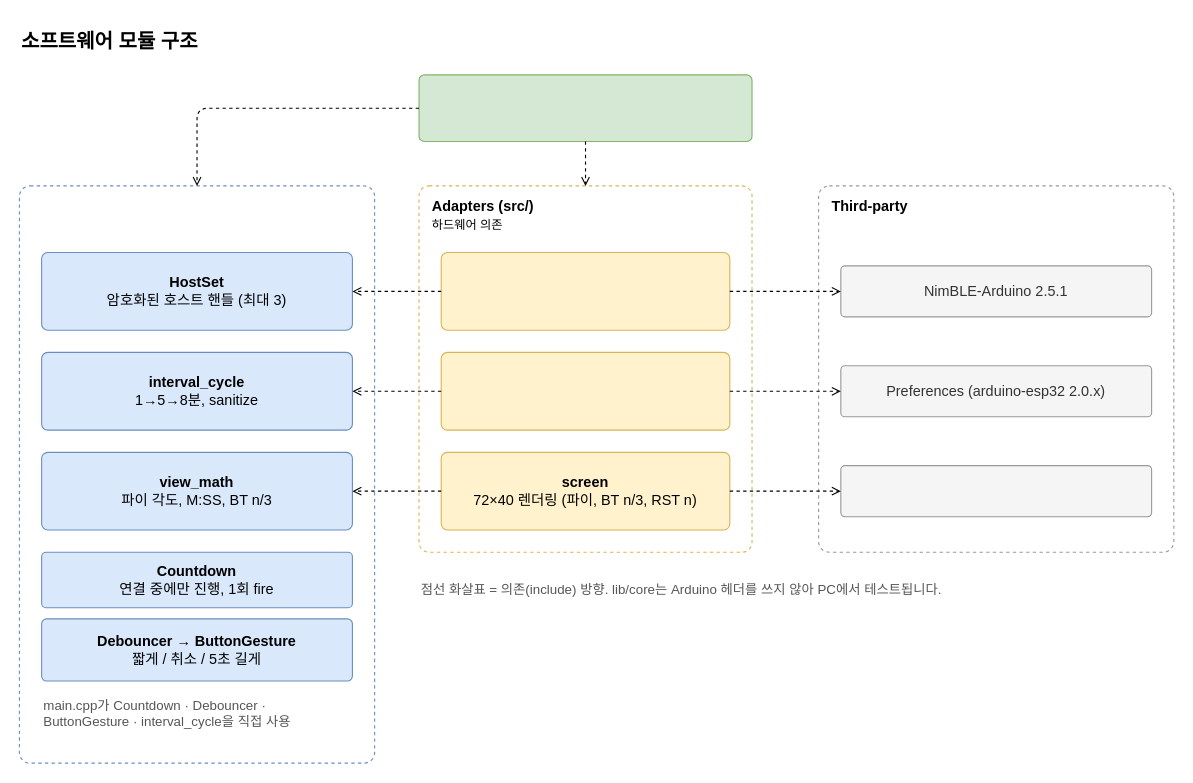
The diagram is 1193 pixels wide and 783 high, and some of its shapes have lost their labels. The box of each missing label's shape, as (x1, y1, x2, y2) in pixels:
ble_keyboard HID · 최대 3대 · 광고 유지 tapLeftShift() · clearPairings(): (440, 251, 730, 330)
Core (lib/core) 순수 로직 · PC 단위 테스트: (18, 185, 375, 763)
main.cpp (Application) setup() / loop() 조립 · 이벤트 로깅: (418, 74, 752, 142)
settings NVS 간격 인덱스 load/save: (440, 351, 730, 430)
U8g2 2.36.18 + Wire: (840, 465, 1152, 517)
